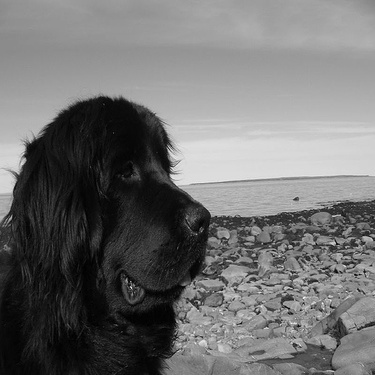dog: (1, 87, 216, 372)
